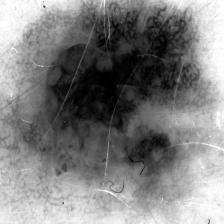Benign Marking or Mole: (11, 1, 214, 176)
